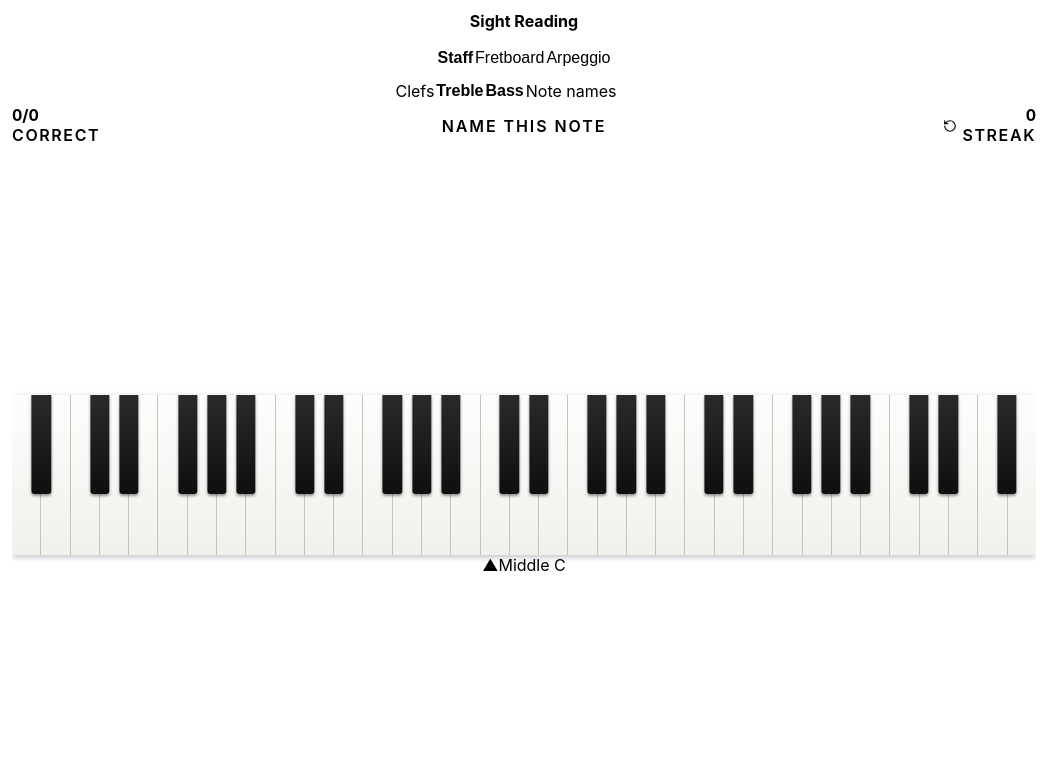
Test case: answering updates the score chips, and Reset clears them
Click the radio button labelled "Fretboard": (510, 58) x1=475 y1=43 x2=544 y2=73
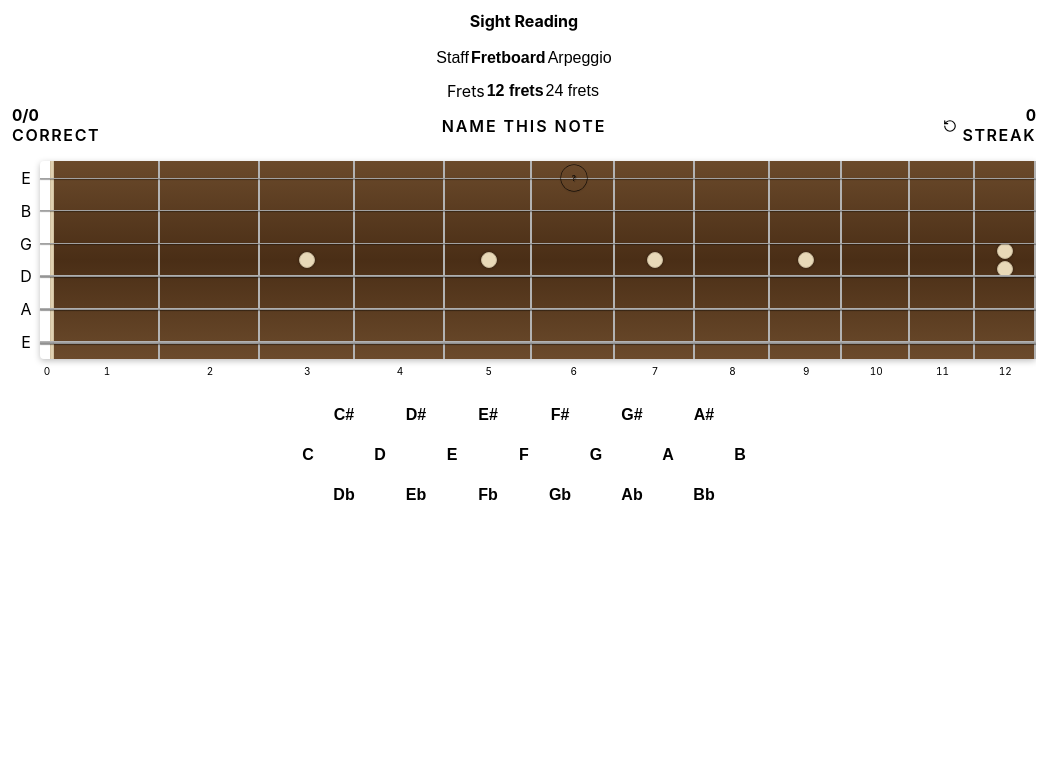
Click the button "A#": (704, 415) x1=668 y1=395 x2=740 y2=435
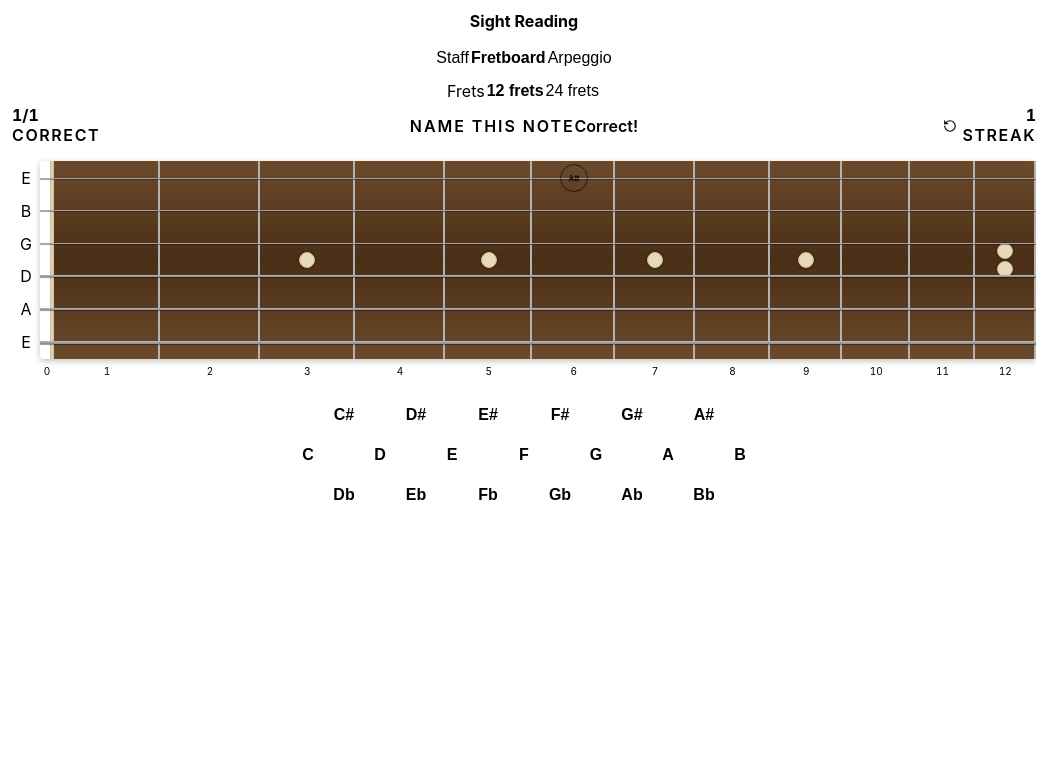
Check: the text "Correct" is shown, box x1=12 y1=125 x2=100 y2=145
Check: the text "1/1" is shown, box x1=12 y1=107 x2=39 y2=125
Click the button named "Reset score": (950, 126) x1=936 y1=113 x2=962 y2=139
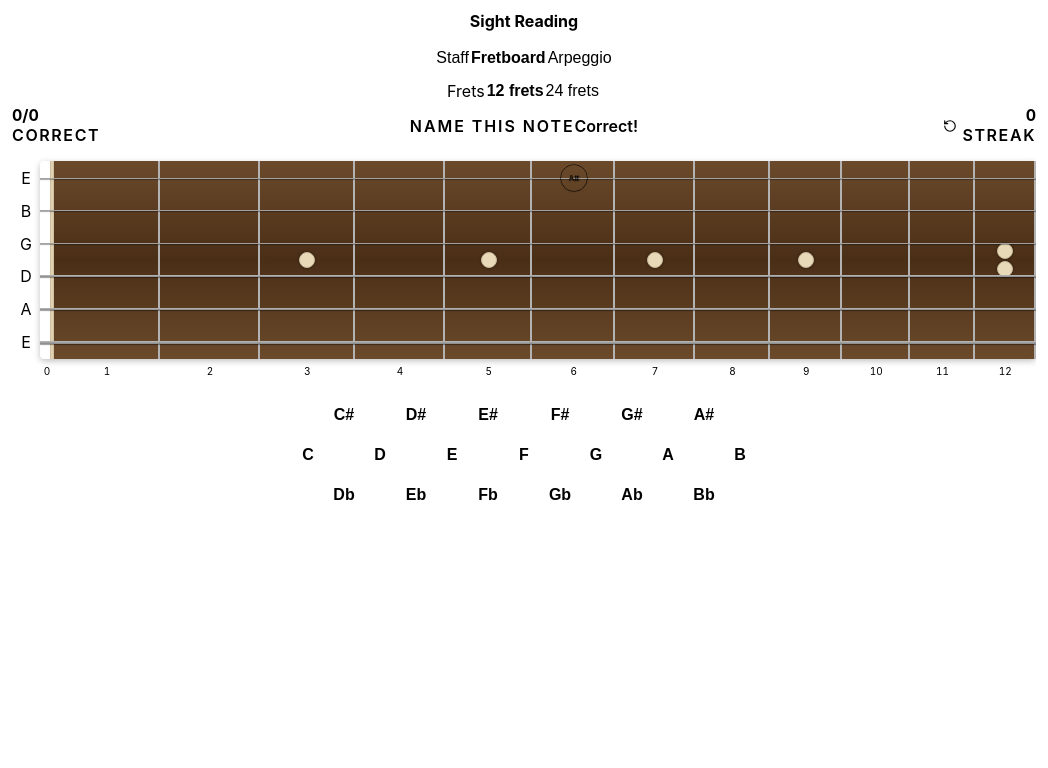
Check: the text "0/0" is shown, box x1=12 y1=107 x2=39 y2=125
